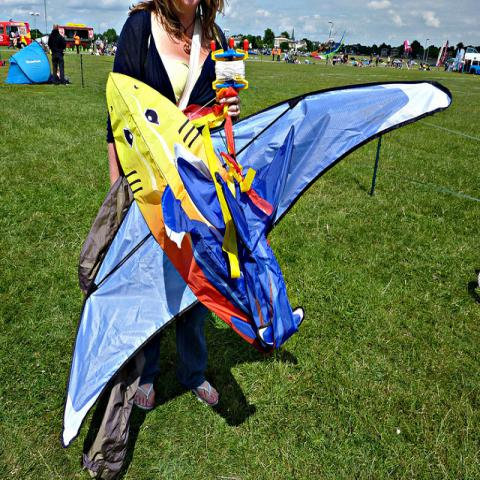truck: (0, 17, 32, 49)
